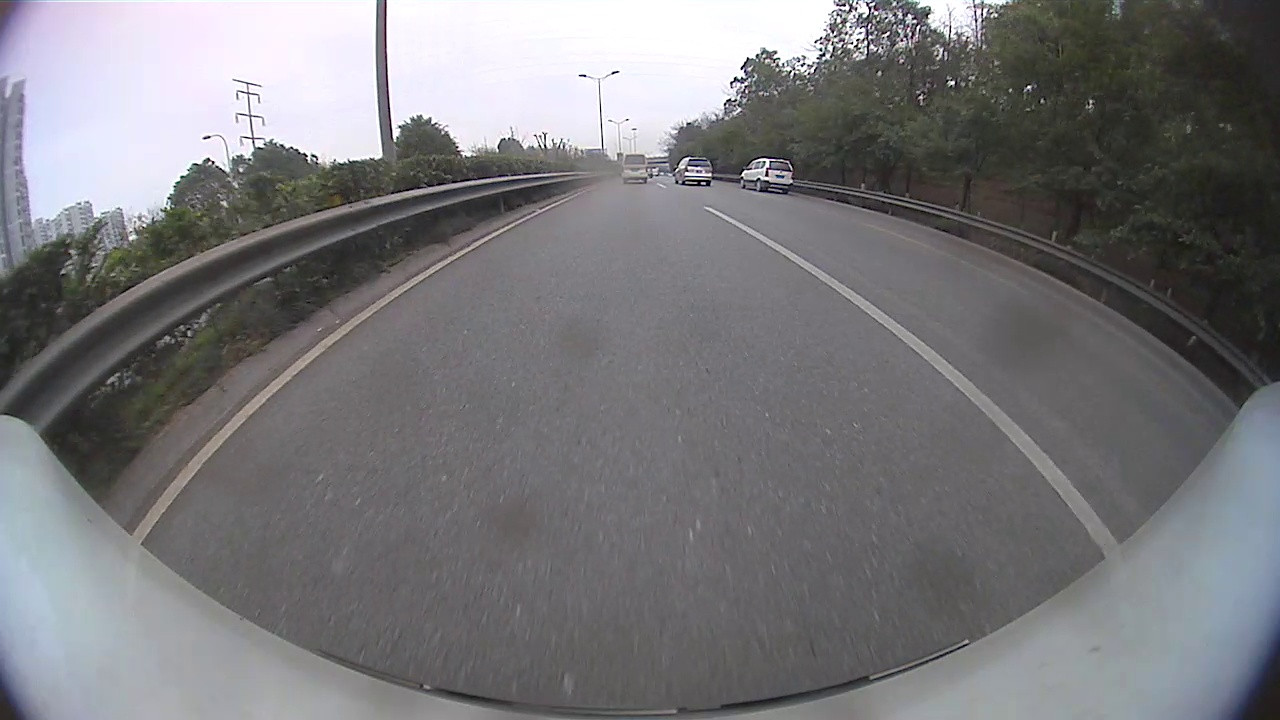car: (737, 157, 794, 194), (672, 154, 713, 186), (620, 152, 648, 184)
front: (738, 178, 745, 189)
rear: (755, 180, 761, 193)
